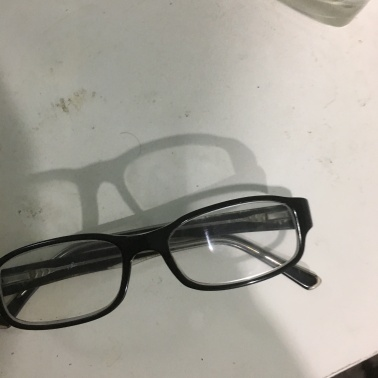glasses: (11, 207, 313, 313)
